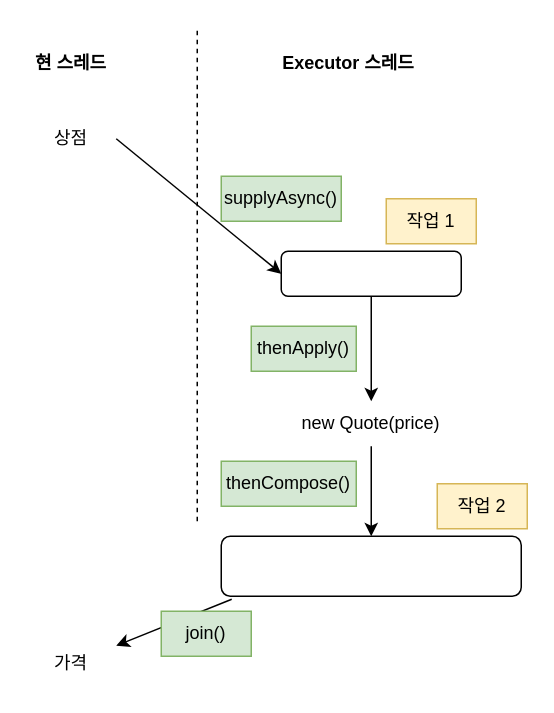
This 554x713 diagram has some shape labels left out. Each missing label, with the centre of its shape:
"Discount.applyDiscount(quote)" belongs at [370,565].
"shop.getPrice()" belongs at [370,273].
